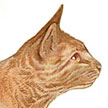Tigre: (29, 9, 105, 93)
